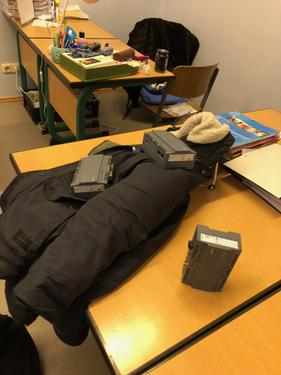device: (182, 225, 243, 293), (142, 130, 198, 170), (71, 155, 114, 199)
